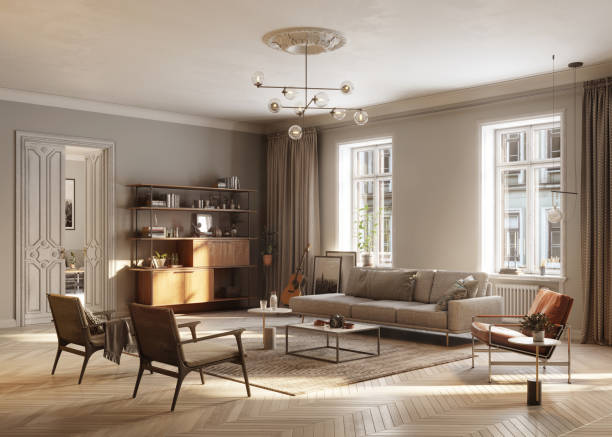chair: (129, 294, 251, 413), (469, 285, 574, 385), (45, 291, 132, 384)
side table: (508, 332, 563, 408)
sofa: (289, 265, 504, 346)
table: (285, 319, 382, 366), (247, 304, 293, 350)
